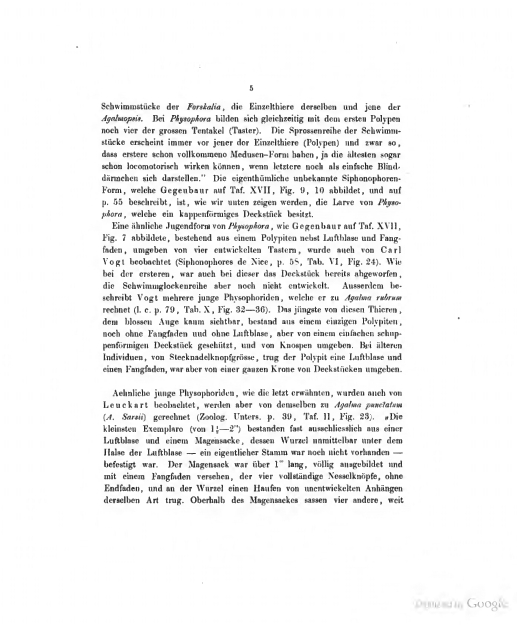MainZone: (99, 94, 413, 512)
NoiseZone: (409, 585, 517, 625)
NumberingZone_page: (242, 79, 266, 100)
